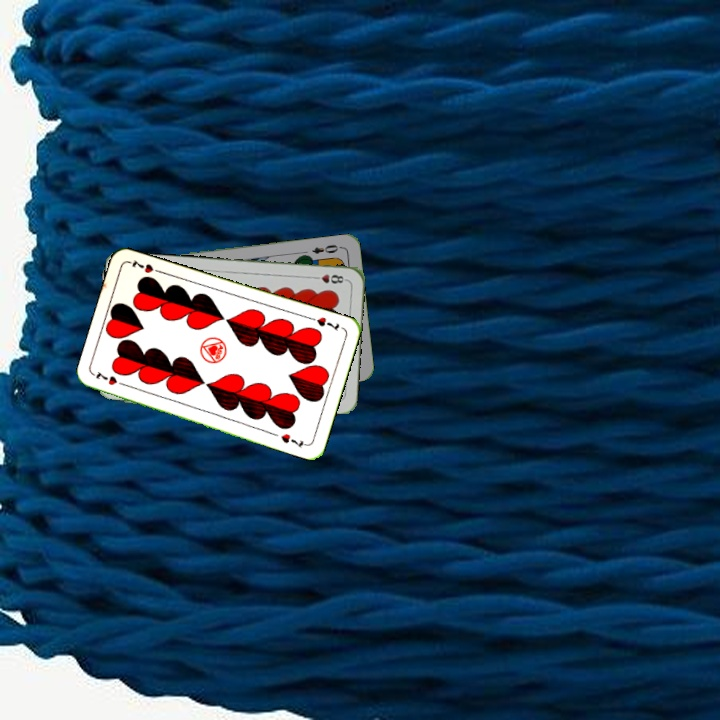EO: (308, 240, 344, 256)
H7: (305, 313, 342, 334), (92, 369, 130, 389)
H8: (308, 270, 349, 286)
